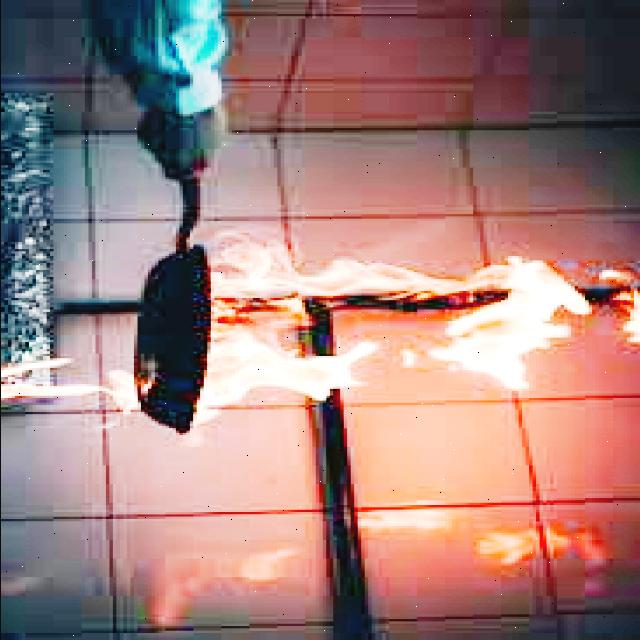api: (183, 239, 589, 458)
